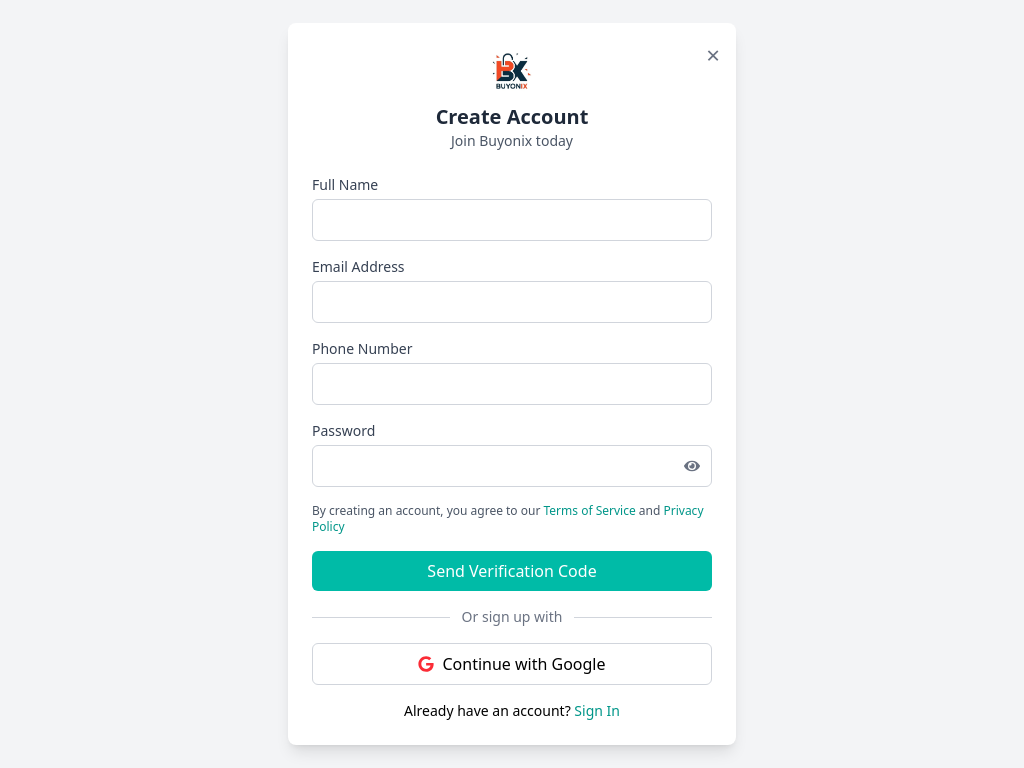
Test: SignUp Unit Tests › should show error on failed OTP send
Type "John" into the field labelled "Full Name" at point(512, 220), box [312,199,712,241]
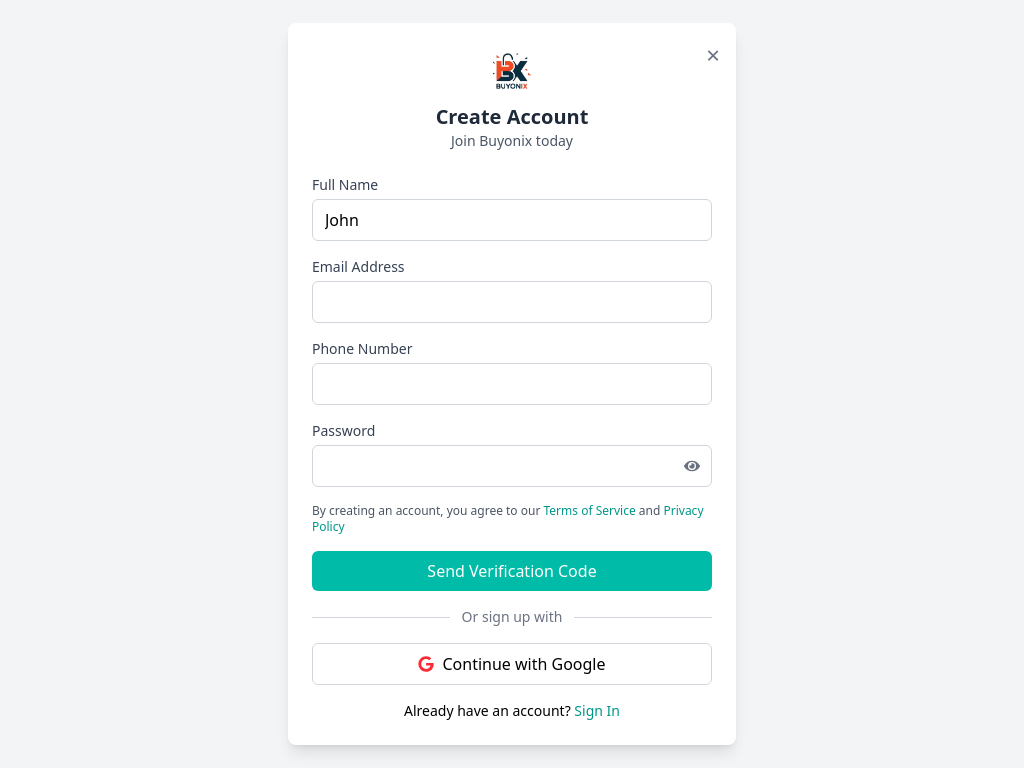
Type "j@t.com" into the field labelled "Email Address" at point(512, 302), box [312,281,712,323]
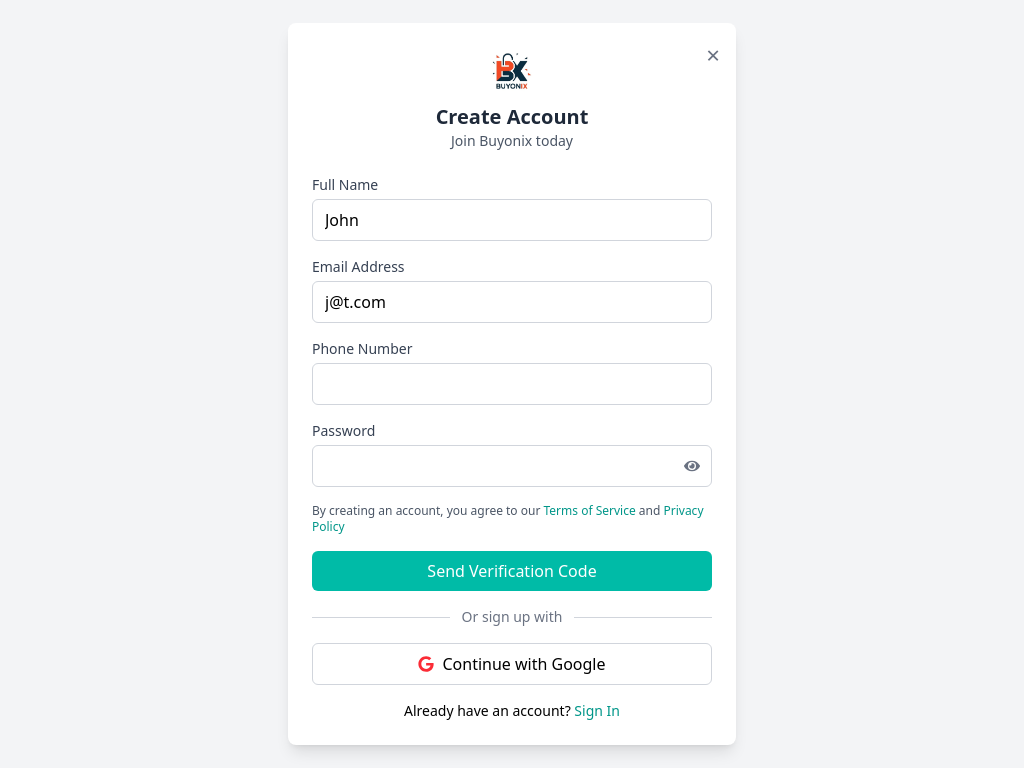
Type "123" into the field labelled "Phone Number" at point(512, 384), box [312,363,712,405]
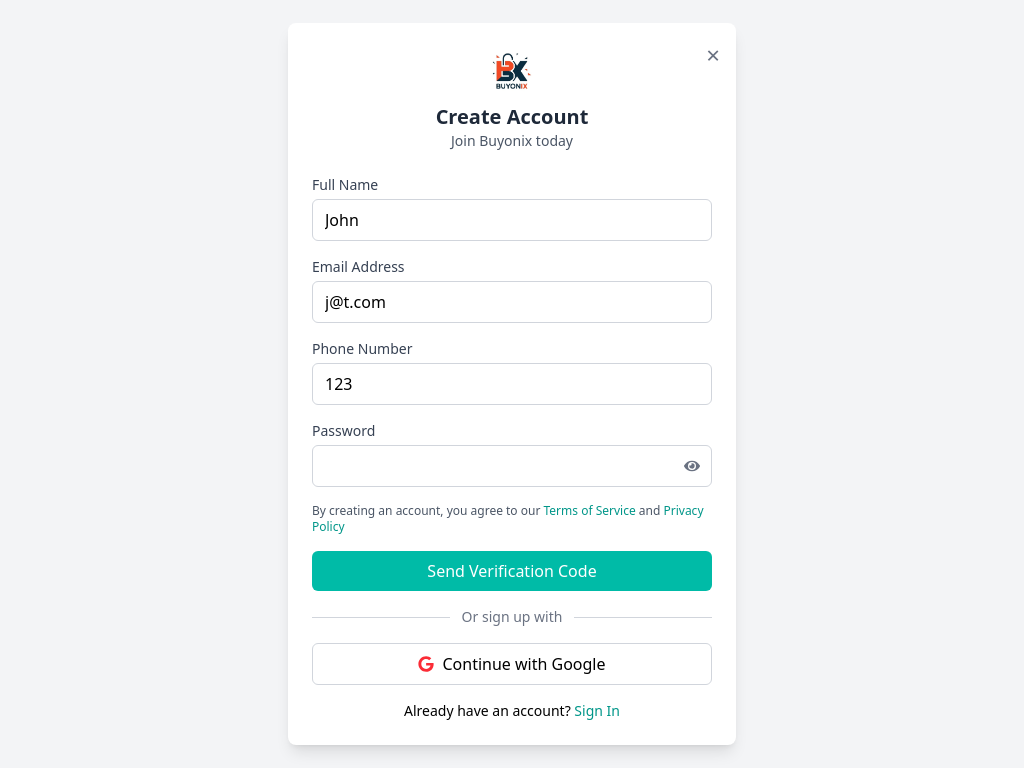
Type "pass" into the password field labelled "Password" at point(512, 466), box [312,445,712,487]
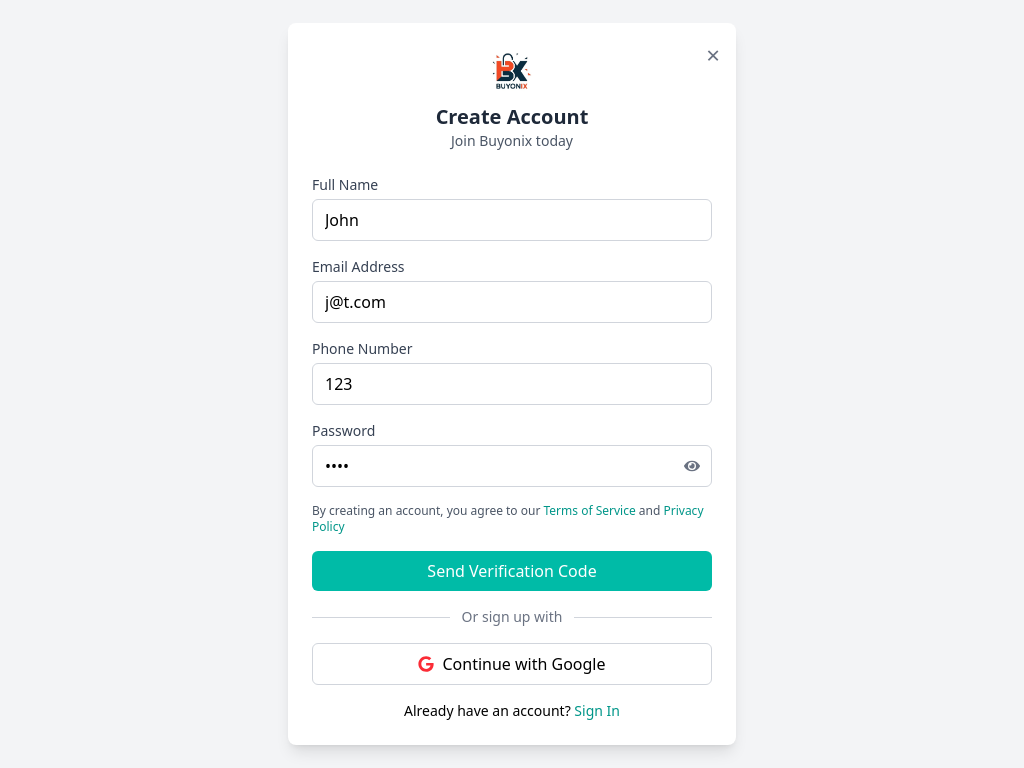
Click the button "Send Verification Code" at point(512, 571), box [312,551,712,591]
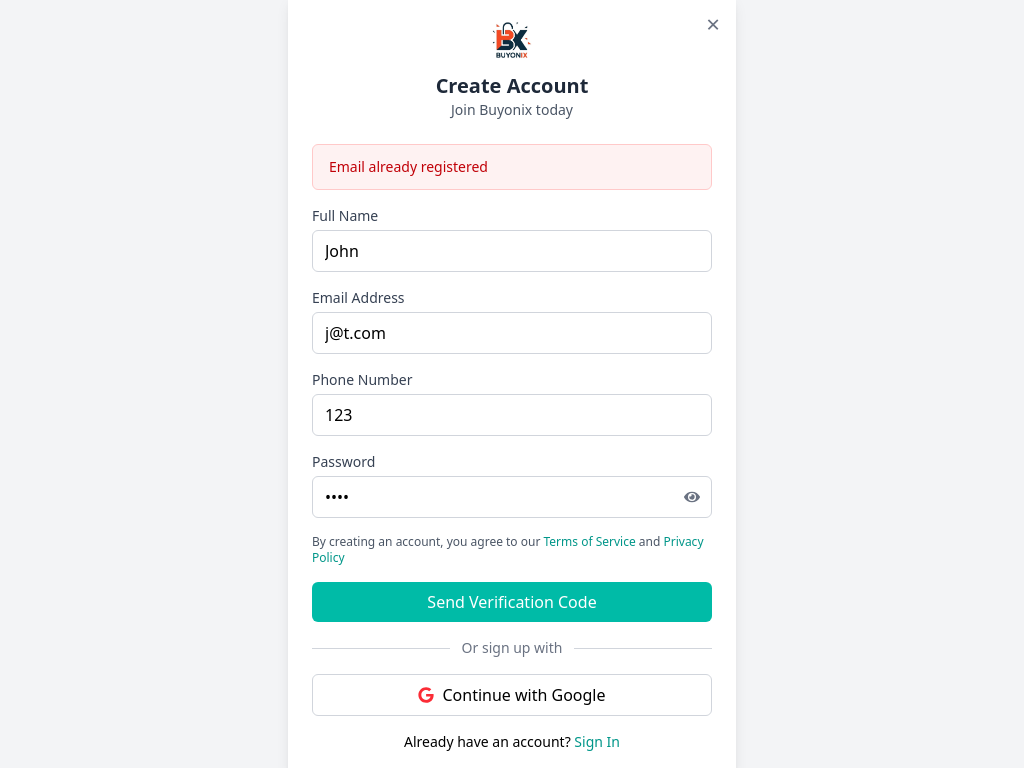
Expected: the text "Email already registered" is shown, [312,144,712,190]
